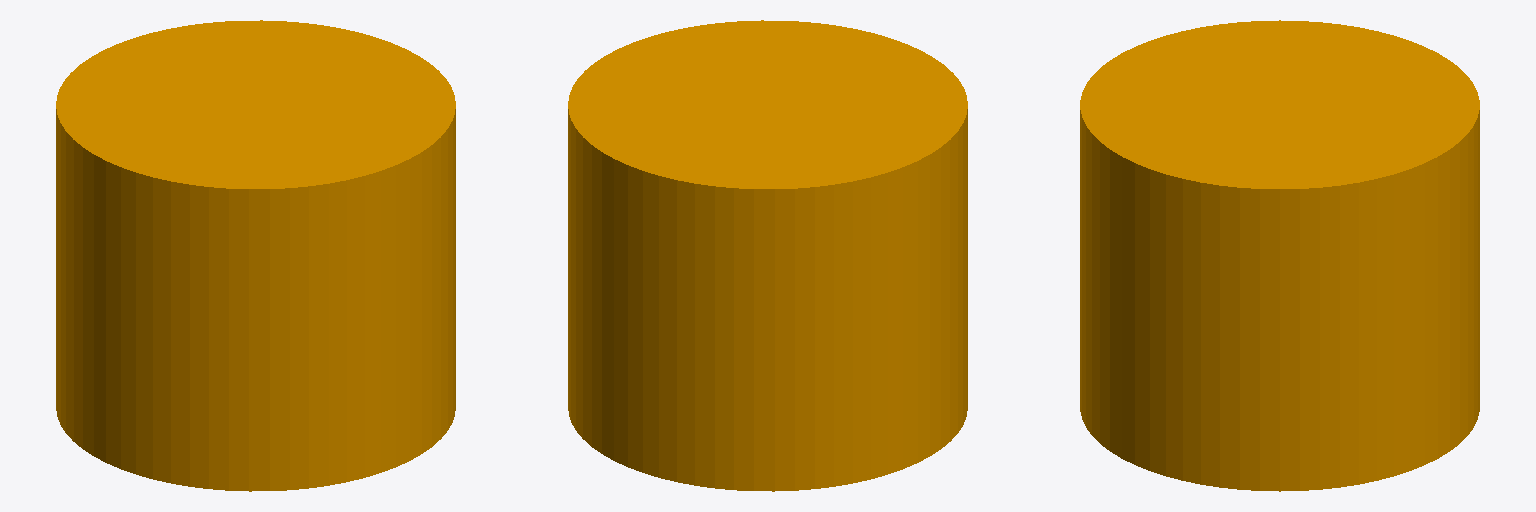
URDF robot description (sheet2.f3d):
<?xml version="1.0" ?>
<robot name="sheet2.f3d">

<material name="silver">
  <color rgba="0.700 0.700 0.700 1.000"/>
</material>

<link name="base_link">
  <inertial>
    <origin xyz="-8.041698750169483e-18 -4.0208493750847415e-18 0.024999999999999994" rpy="0 0 0"/>
    <mass value="0.14137166941154072"/>
    <inertia ixx="6.126105674499962e-05" iyy="6.126105674500149e-05" izz="6.361725123519245e-05" ixy="4.571176504083203e-36" iyz="8.526512829121205e-21" ixz="-2.8421709430404e-20"/>
  </inertial>
  <visual>
    <origin xyz="0 0 0" rpy="0 0 0"/>
    <geometry>
      <mesh filename="meshes/base_link.stl" scale="0.001 0.001 0.001"/>
    </geometry>
    <material name="silver"/>
    <material/>
  </visual>
  <collision>
    <origin xyz="0 0 0" rpy="0 0 0"/>
    <geometry>
      <mesh filename="meshes/base_link.stl" scale="0.001 0.001 0.001"/>
    </geometry>
  </collision>
</link>

</robot>

--- What the picture shows (computed from the rendered views, not written in the file) ---
The picture shows the robot from 3 angles, left to right: view 1: azimuth 30°, elevation 25°; view 2: azimuth 150°, elevation 25°; view 3: azimuth 270°, elevation 25°; orthographic projection.
Model sheet2.f3d with 1 links and 0 joints (none), rooted at base_link, posed all joints at 0.
Links seen in each view (by area): view 1: base_link; view 2: base_link; view 3: base_link.
Link boxes in pixels (x1,y1,x2,y2): base_link: (56, 20, 455, 491); base_link: (568, 20, 967, 491); base_link: (1080, 20, 1479, 491).
Size in the robot's own frame: 0.06 by 0.0599 by 0.05 metres.
Meshes: 1 distinct files referenced, 1 mesh visuals loaded (1 binary STL).